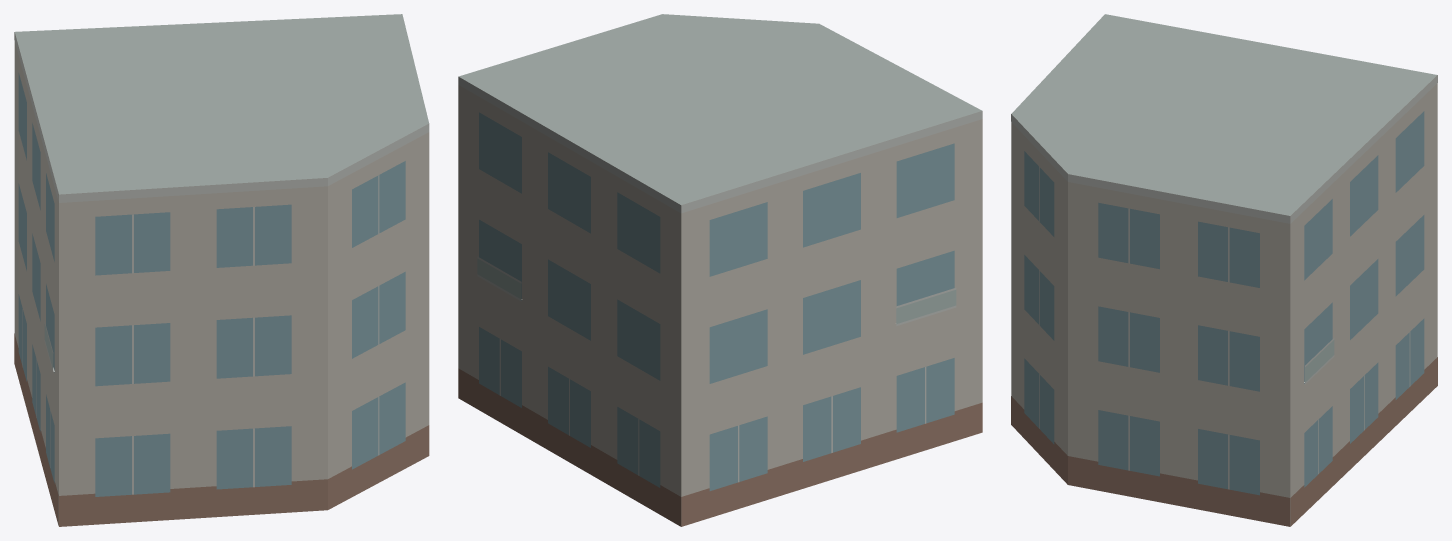
The model's file is survey-upis-32972533.glb.
The picture shows the model from 3 angles, left to right: view 1: azimuth 30°, elevation 25°; view 2: azimuth 150°, elevation 25°; view 3: azimuth 270°, elevation 25°; orthographic projection. The views are drawn at different scales.
Visible parts, largest first — view 1: survey-upis-32972533.tmp; view 2: survey-upis-32972533.tmp; view 3: survey-upis-32972533.tmp.
Part boxes in pixels (x1,y1,x2,y2): survey-upis-32972533.tmp: [14, 14, 429, 526]; survey-upis-32972533.tmp: [458, 14, 982, 526]; survey-upis-32972533.tmp: [1011, 14, 1437, 526].
Size of the model in its own units: 13.39 by 9.6 by 11.94.
